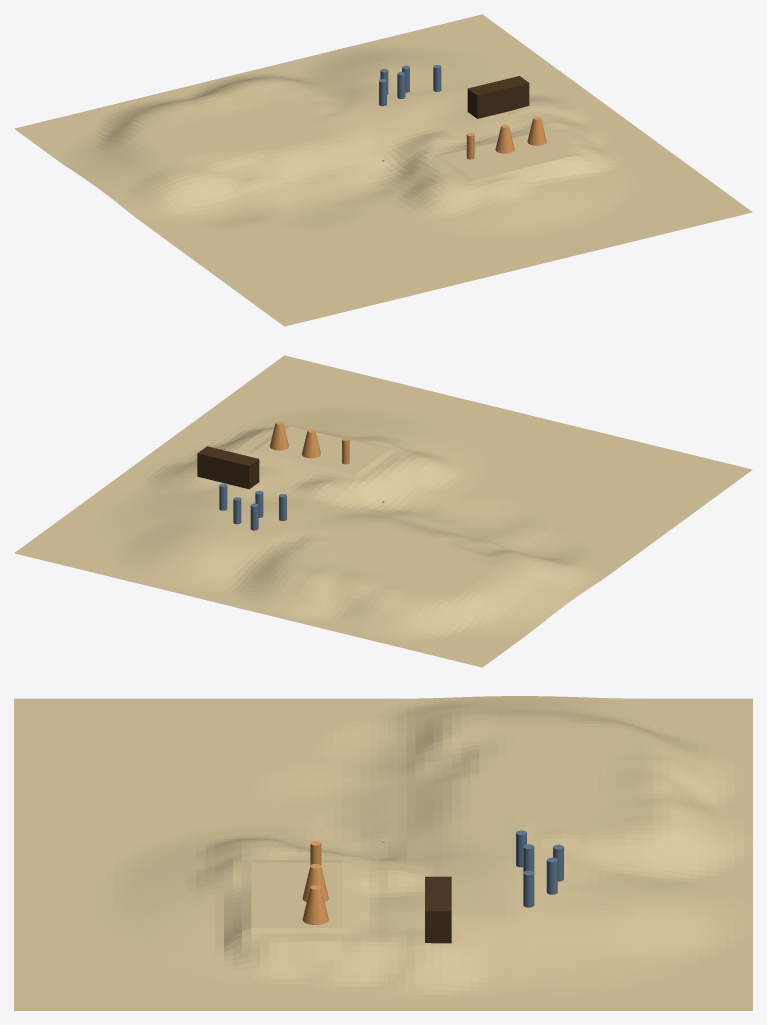
File: bikini_bottom_environment_v01.glb
3 renders of one model, top to bottom at view 1: azimuth 30°, elevation 25°; view 2: azimuth 150°, elevation 25°; view 3: azimuth 270°, elevation 25°, orthographic. The views are drawn at different scales.
Visible parts, largest first — view 1: Seabed, Krusty Krab; view 2: Seabed, Krusty Krab; view 3: Seabed, Krusty Krab, House 3.
Boxes of the visible parts, bbox=[...] form: Seabed: bbox=[14, 14, 752, 326]; Krusty Krab: bbox=[467, 76, 529, 118]; Seabed: bbox=[14, 355, 752, 667]; Krusty Krab: bbox=[197, 446, 259, 489]; Seabed: bbox=[14, 696, 752, 1010]; Krusty Krab: bbox=[425, 876, 451, 943]; House 3: bbox=[302, 885, 328, 924].
Bounding box in the file's own units: 600 × 53.27 × 600.
